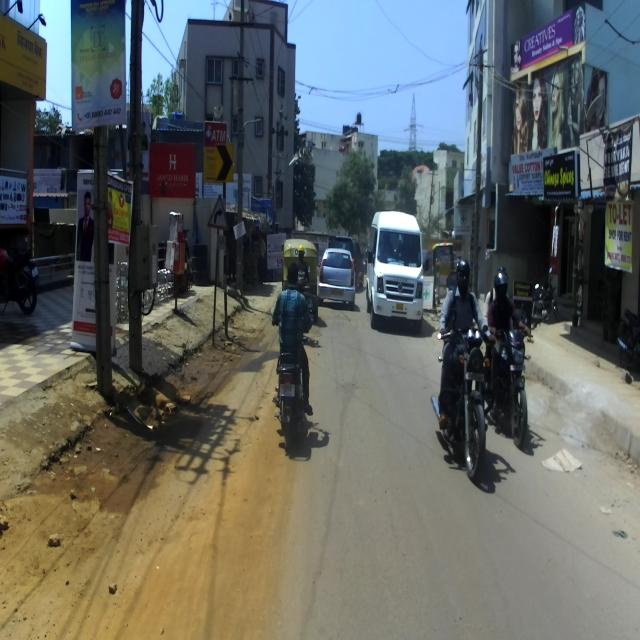bus ahead at: (367, 204, 427, 324)
motorcycle ahead at: (447, 317, 496, 481), (269, 345, 318, 456)
sign board ahead at: (195, 139, 242, 187)
